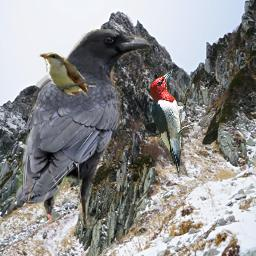Crow: (12, 29, 153, 228)
Cuckoo: (38, 49, 96, 97)
Woodpecker: (149, 69, 194, 177)
